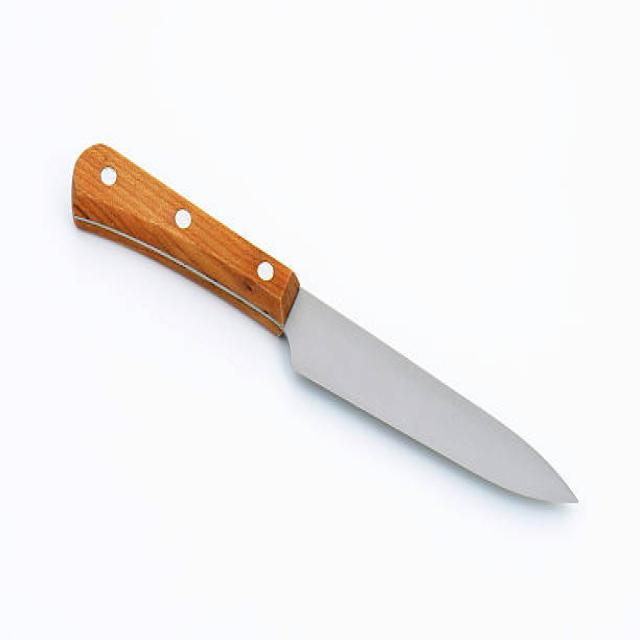knife: (65, 126, 583, 525)
